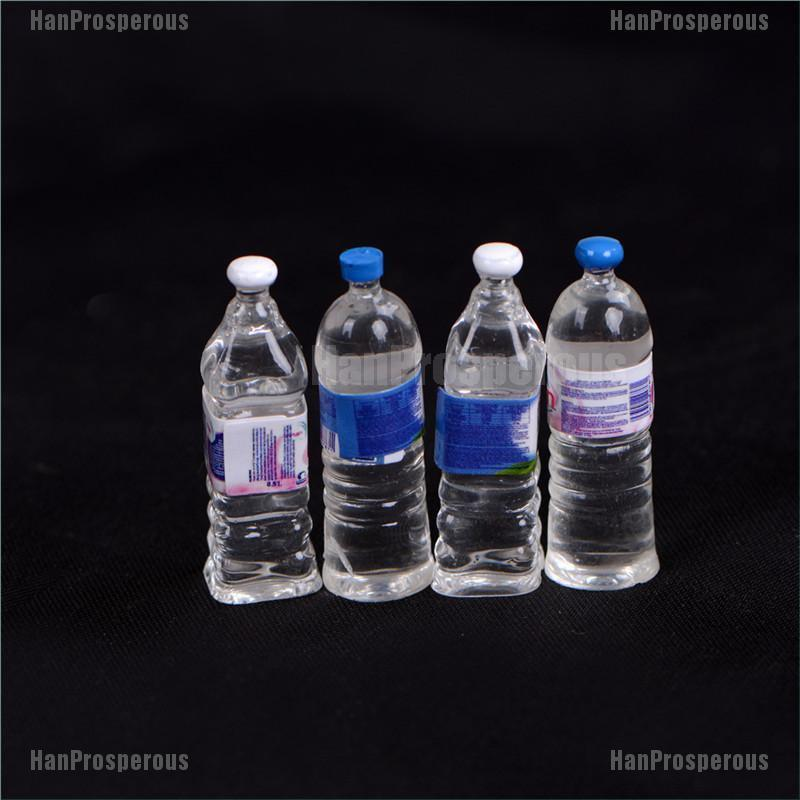bottle: (524, 230, 680, 600), (419, 233, 568, 606), (182, 244, 330, 615), (297, 239, 440, 610)
